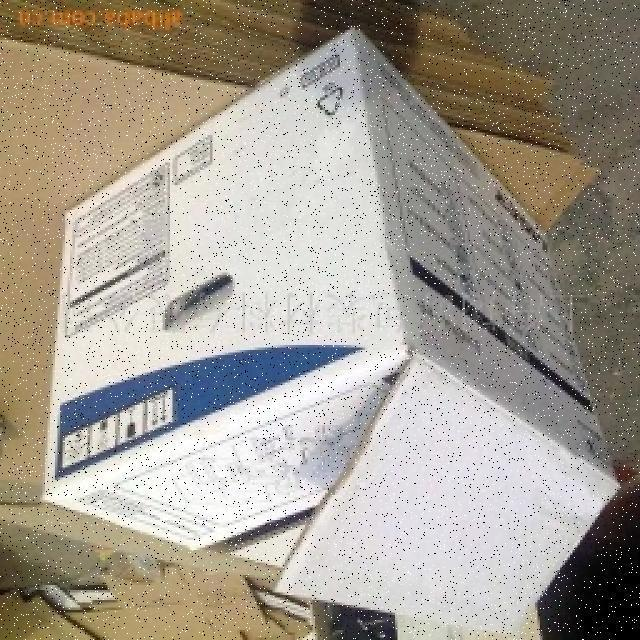box: (48, 68, 626, 619)
